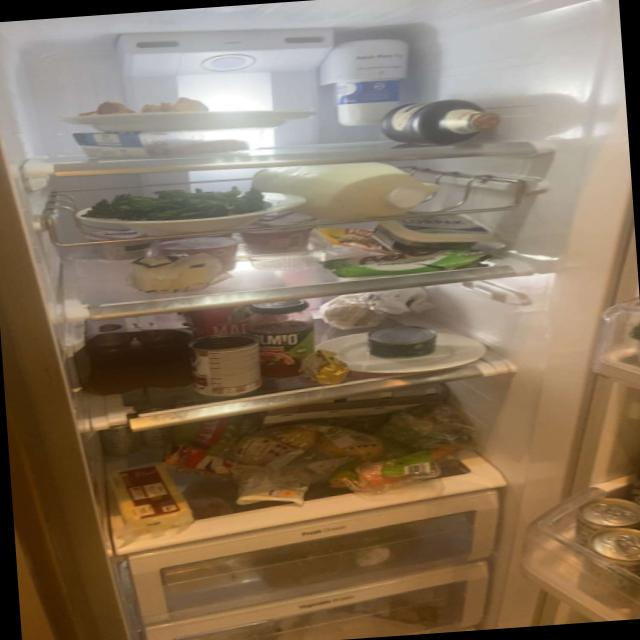Brocoli: (85, 182, 272, 230)
Leche: (250, 155, 442, 222)
Mantequilla: (384, 208, 494, 254), (299, 346, 354, 386)
Patata: (274, 420, 382, 465)
Queso: (108, 460, 196, 530), (134, 253, 210, 294)
Tomate: (175, 444, 215, 472)
Zanahoria: (355, 443, 465, 489)
chocolate: (327, 244, 490, 280)
